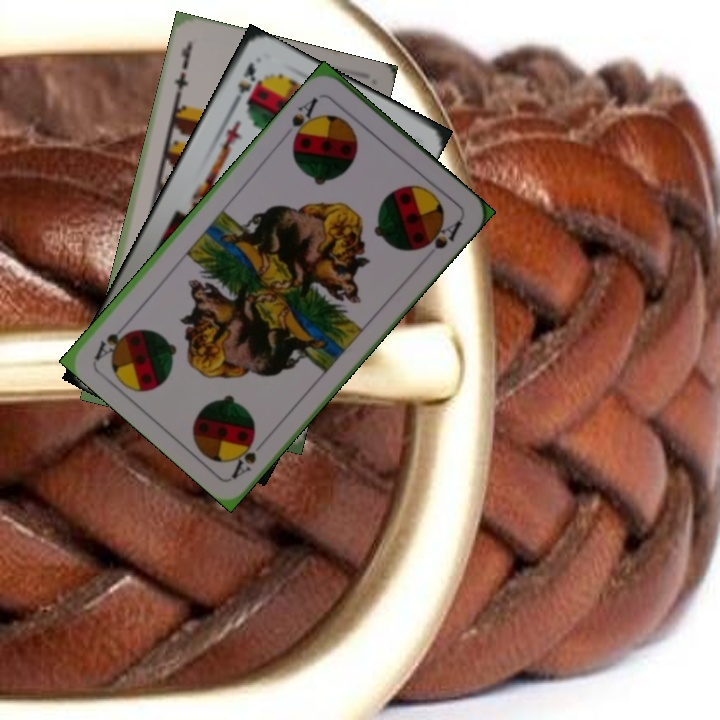E7: (170, 39, 195, 99)
SA: (227, 431, 272, 481), (287, 93, 321, 145)
SK: (227, 58, 259, 112)
